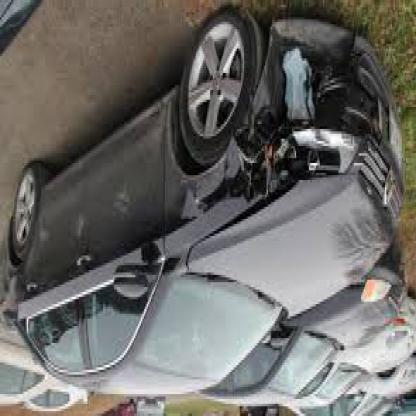dent: (224, 142, 349, 206), (172, 180, 216, 231)
